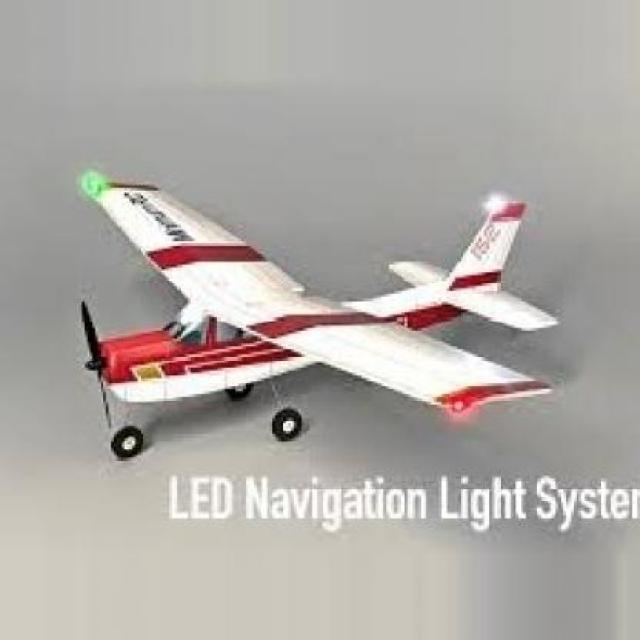iha: (9, 65, 575, 489)
